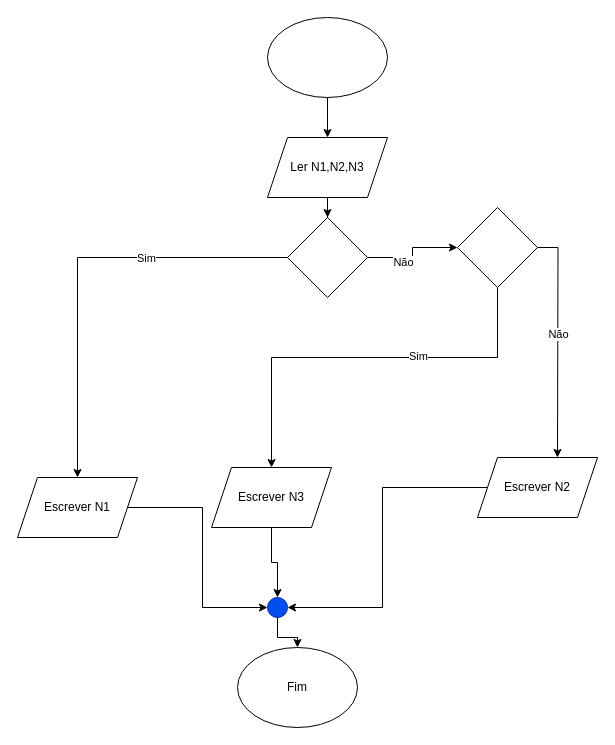
Image size: 615x745. Some labels were removed from this diagram. Each missing label, with the centre of its shape:
"N1>N3 e N1>N2" goes at pixel 327 257.
"N3>N1 e N3>N2" goes at pixel 497 247.
"ínicio" goes at pixel 327 57.
